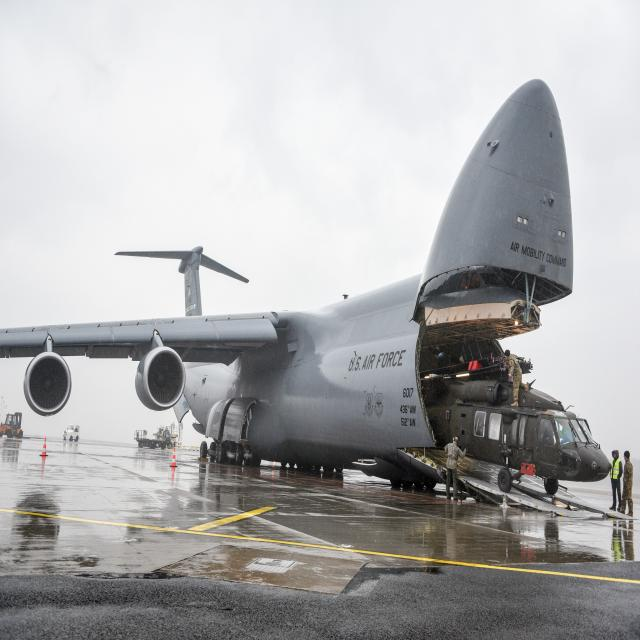C5: (11, 164, 640, 542)
